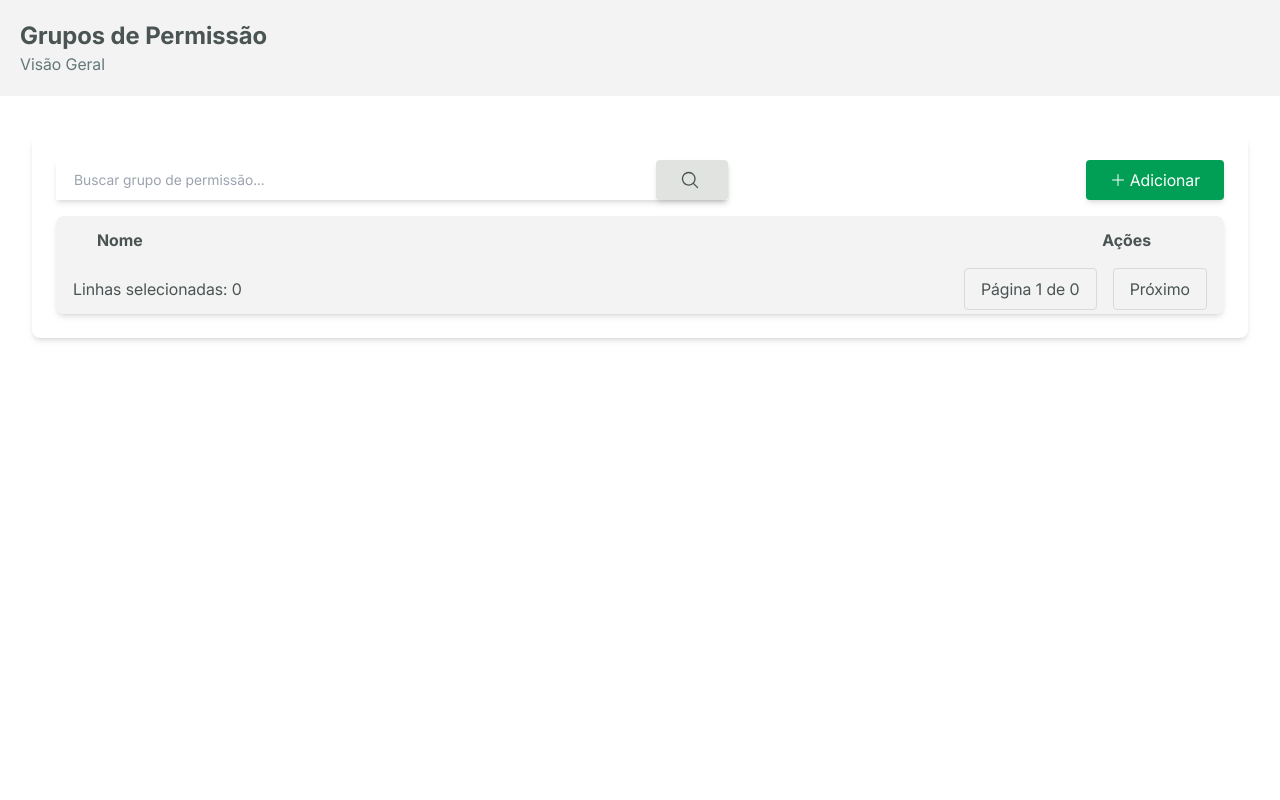
Test: PermissionGroupOverview › surfaces a 422 (ValidationProblemDetails) field error from the backend
Click the button "Adicionar" at [1155, 180], box [1086,160,1224,200]
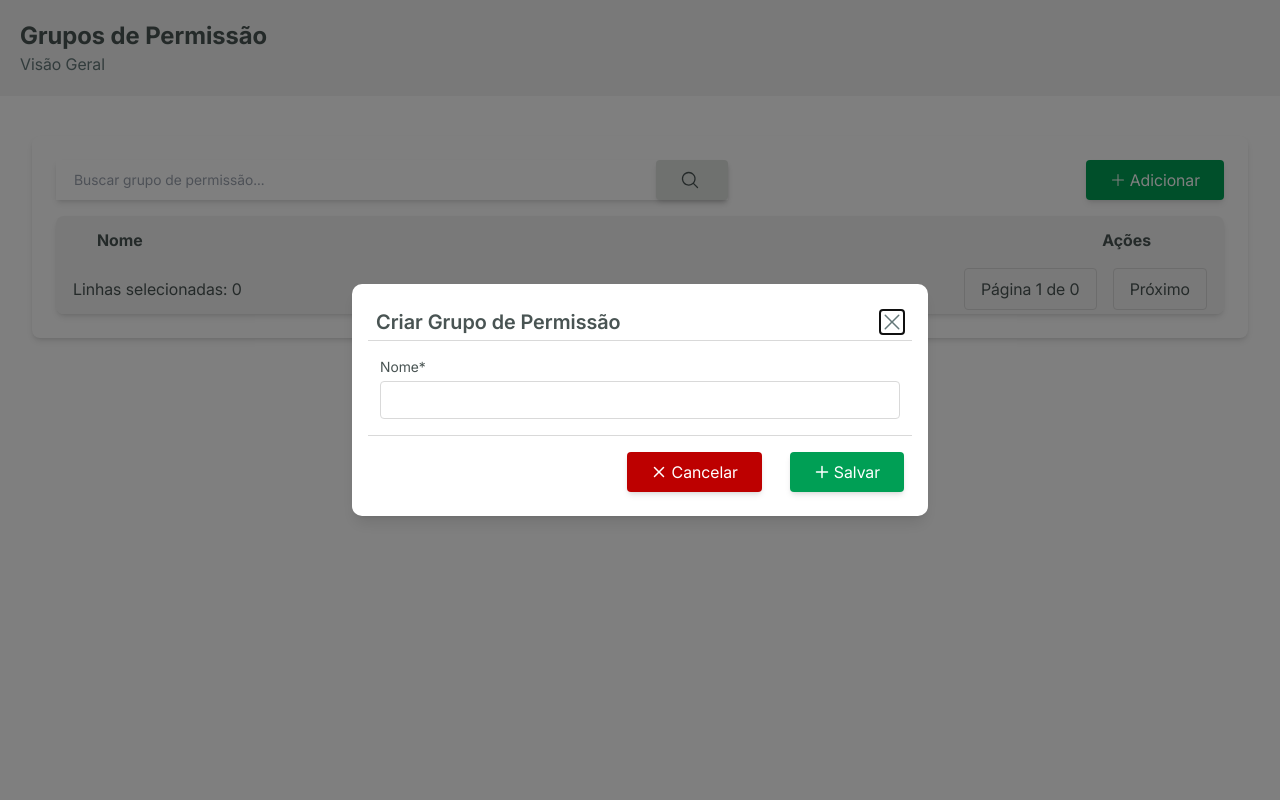
Type "Grupo Teste" into the field named "name" at [640, 400], box [380,381,900,419]
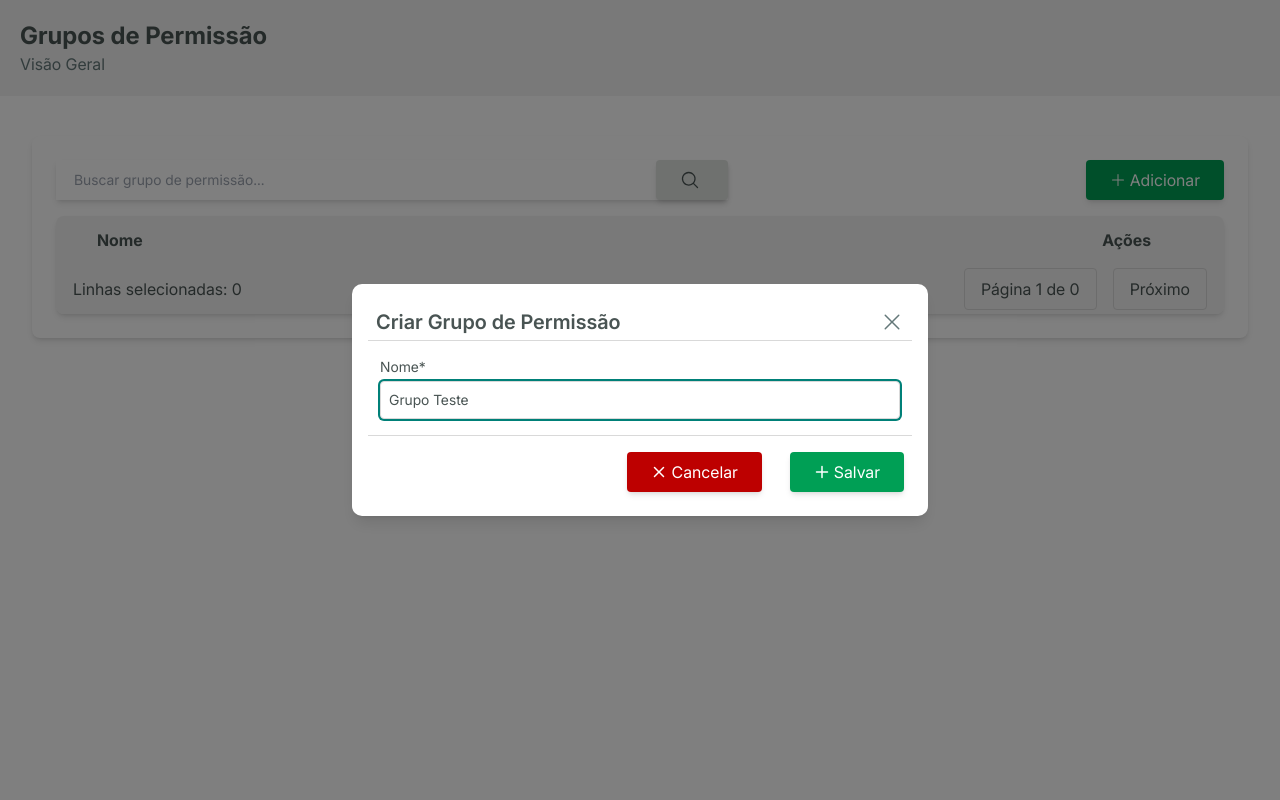
Click the button "Salvar" at [847, 472], box [790,452,904,492]
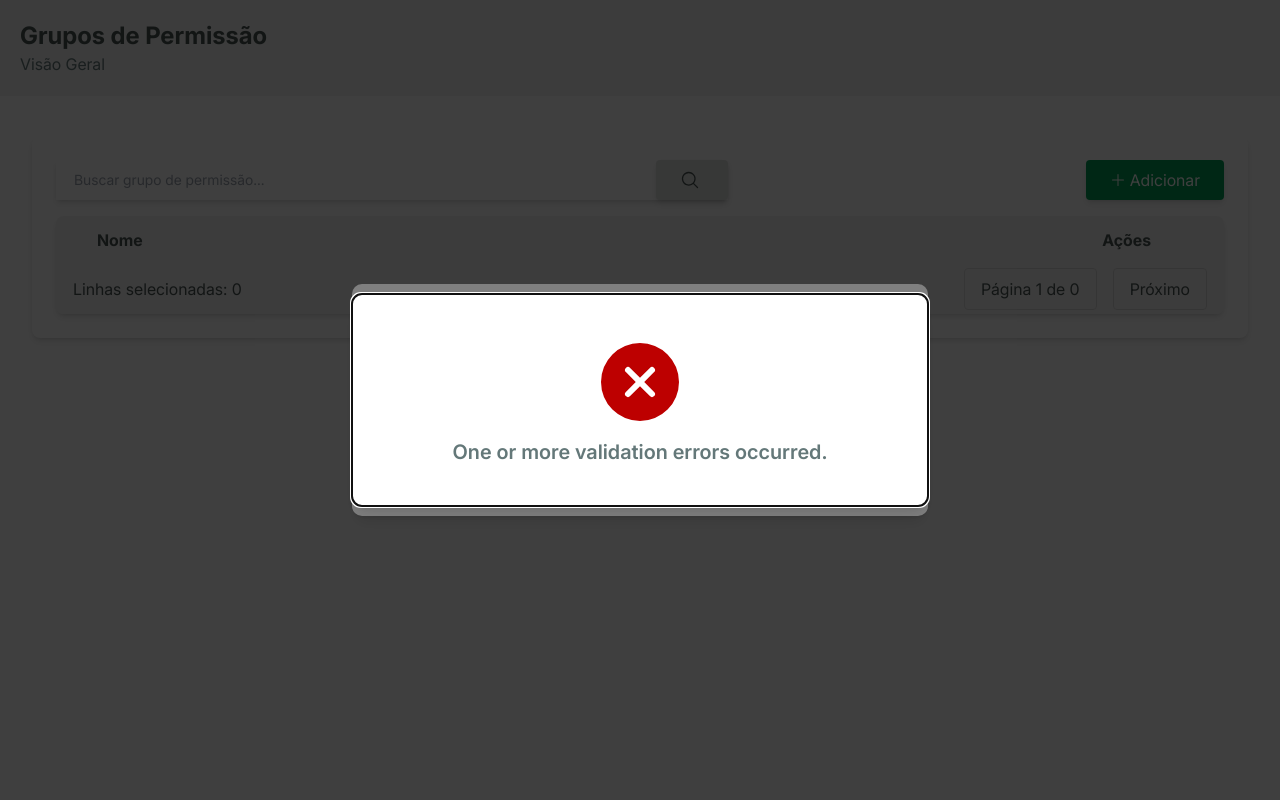
Expected: the text "One or more validation errors occurred." is shown, [453,438,828,466]
